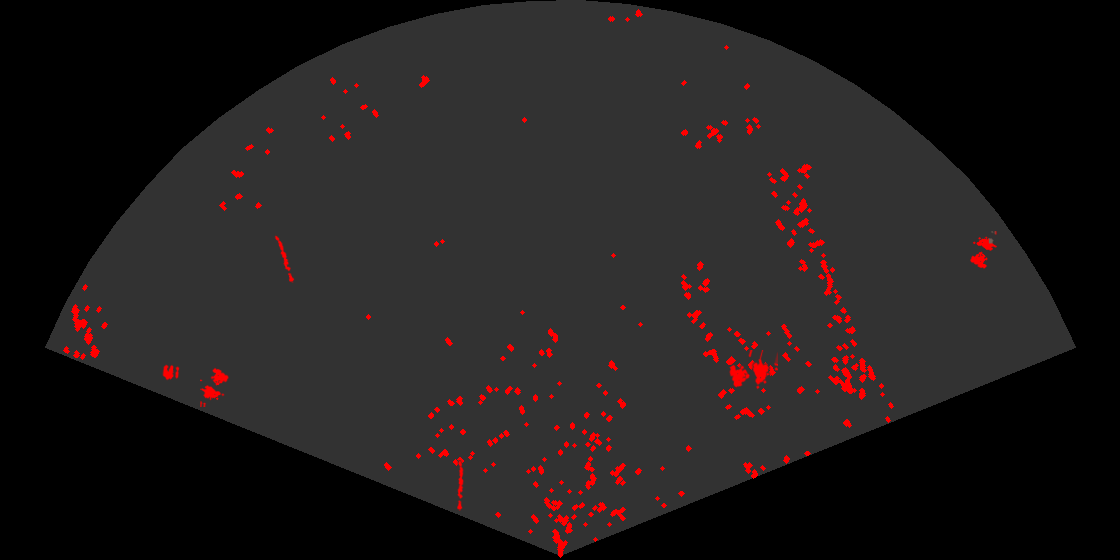ball: (161, 363, 181, 382)
cage: (728, 350, 778, 391), (200, 366, 230, 407), (969, 231, 997, 270)
chain: (273, 234, 296, 283), (456, 460, 465, 511)
